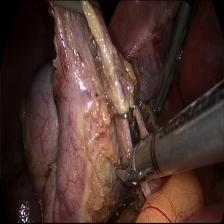Clipper: (112, 135, 154, 187)
Grasper: (151, 15, 190, 115)
